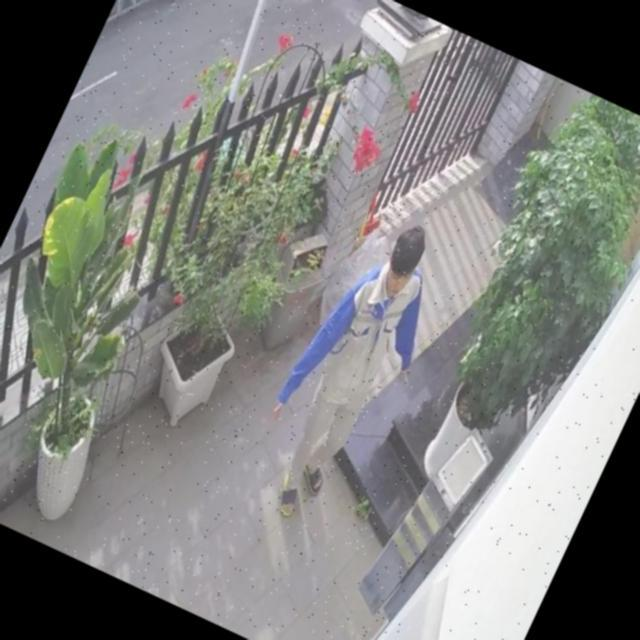person: (235, 200, 466, 536)
